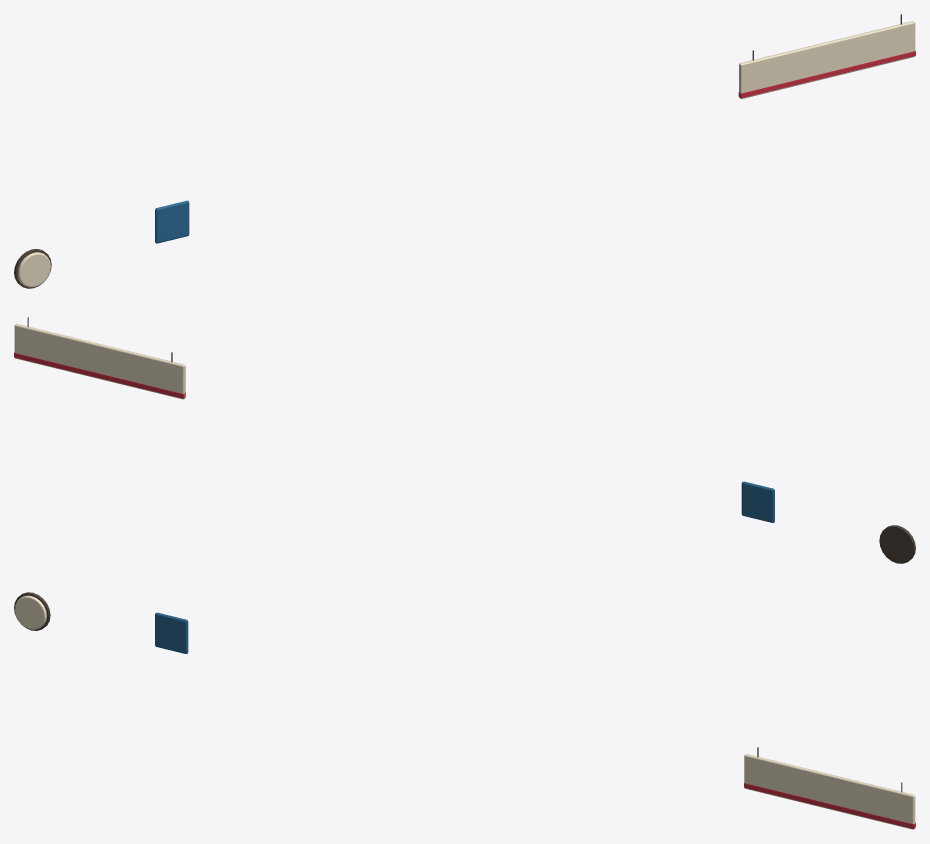
The model's file is canopy_signs.glb.
3 renders of one model, top to bottom at view 1: azimuth 30°, elevation 25°; view 2: azimuth 150°, elevation 25°; view 3: azimuth 330°, elevation 25°, orthographic. The views are drawn at different scales.
Visible parts, largest first — view 1: nameboard, platform_no, nameboard_stripe, clock; view 2: nameboard, platform_no, clock_rim, nameboard_stripe; view 3: nameboard, platform_no, nameboard_stripe, clock.
Part boxes in pixels (x1,y1,x2,y2): nameboard: (739, 21, 915, 98); platform_no: (155, 200, 189, 243); nameboard_stripe: (738, 51, 915, 98); clock: (17, 252, 50, 287); nameboard: (14, 323, 185, 399); platform_no: (741, 481, 774, 522); clock_rim: (879, 525, 915, 563); nameboard_stripe: (14, 352, 185, 398); nameboard: (744, 754, 915, 829); platform_no: (155, 612, 188, 653); nameboard_stripe: (744, 783, 915, 828); clock: (14, 595, 46, 629).
Size of the model in its own units: 13.57 by 0.68 by 0.4525.
